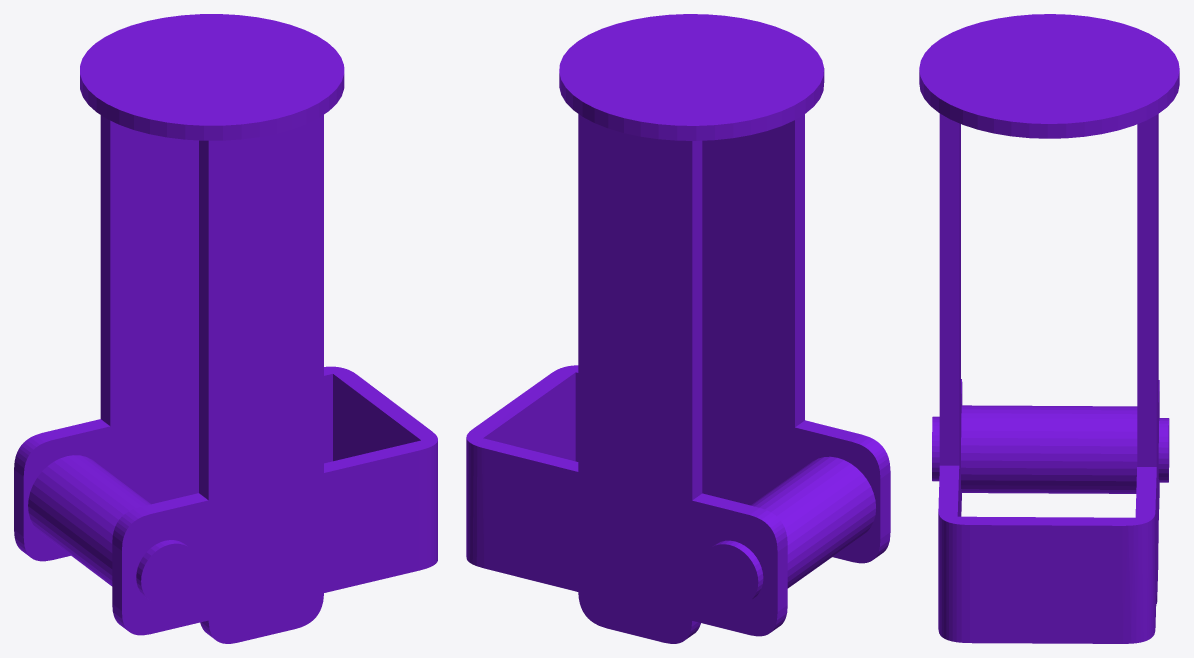
Rendered from back_caster.dae.
3 renders of one model, left to right at view 1: azimuth 30°, elevation 25°; view 2: azimuth 150°, elevation 25°; view 3: azimuth 270°, elevation 25°, orthographic.
Visible parts, largest first — view 1: Caffeine Full - Front backwheelsupportCaffeine-1; view 2: Caffeine Full - Front backwheelsupportCaffeine-1; view 3: Caffeine Full - Front backwheelsupportCaffeine-1.
Part boxes in pixels (bbox=[...]): Caffeine Full - Front backwheelsupportCaffeine-1: bbox=[14, 14, 437, 643]; Caffeine Full - Front backwheelsupportCaffeine-1: bbox=[466, 14, 890, 643]; Caffeine Full - Front backwheelsupportCaffeine-1: bbox=[919, 14, 1179, 643].
Bounding box in the file's own units: 0.1137 × 0.08 × 0.175.
